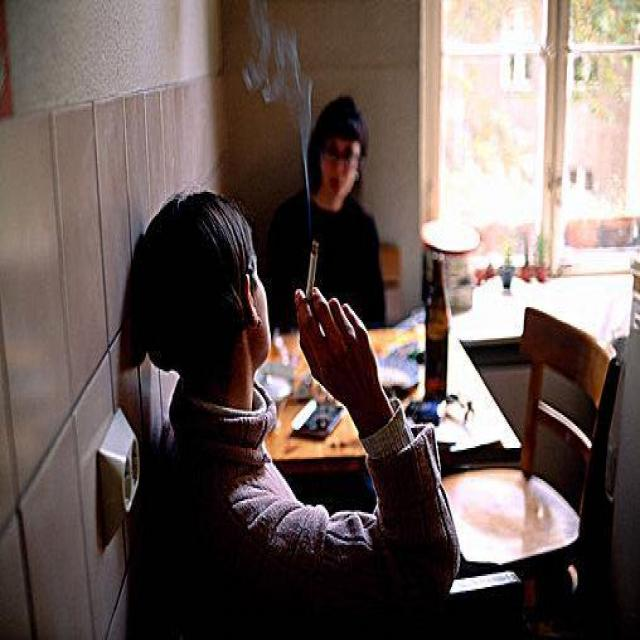Дым: (245, 13, 316, 196)
Сигарета: (306, 240, 318, 301)
Тело: (130, 188, 462, 640), (266, 93, 388, 342)
